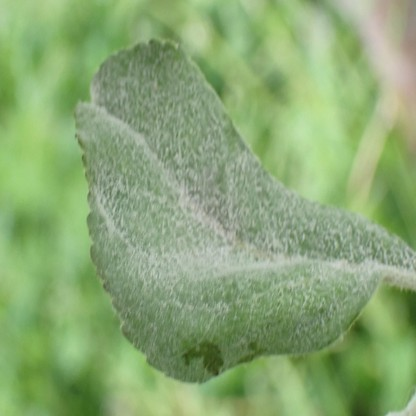powdery_mildew: (73, 35, 416, 383)
